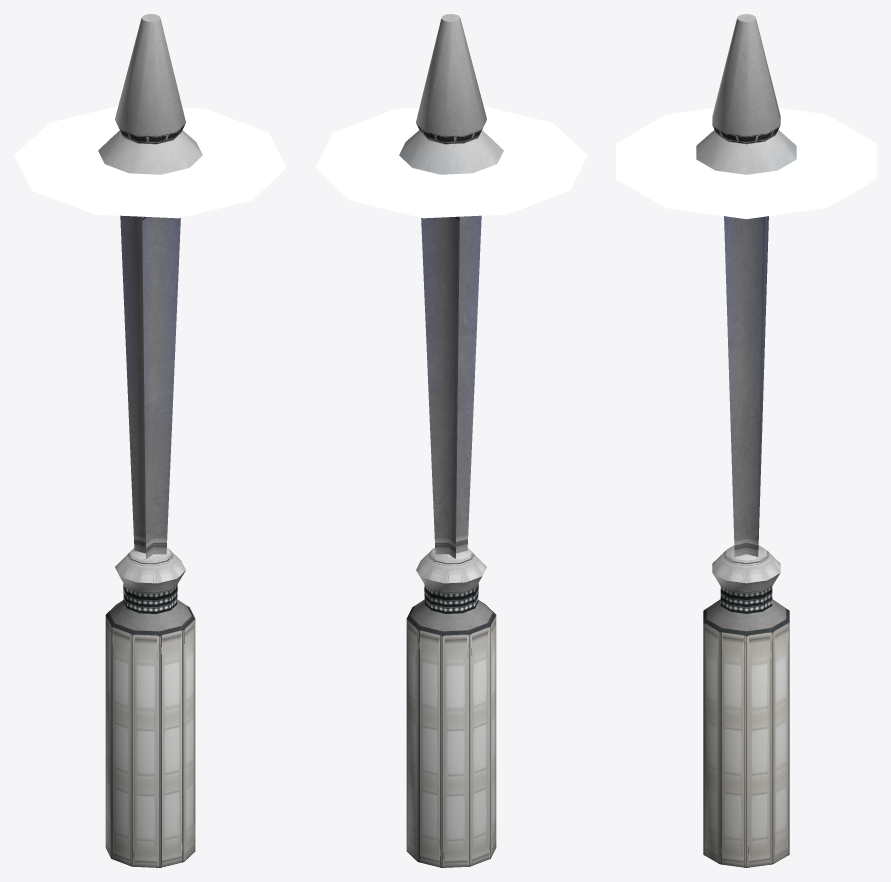
The model's file is bes2_bldg_street_lamp.glb.
3 views of the same model, side by side, from view 1: azimuth 30°, elevation 25°; view 2: azimuth 150°, elevation 25°; view 3: azimuth 270°, elevation 25° (orthographic).
Visible parts, largest first — view 1: mesh_part3, mesh_part2, mesh_part1; view 2: mesh_part3, mesh_part2, mesh_part1; view 3: mesh_part3, mesh_part2, mesh_part1.
Boxes of the visible parts, x1=… form: mesh_part3: x1=105, y1=215, x2=195, y2=867; mesh_part2: x1=14, y1=106, x2=286, y2=218; mesh_part1: x1=98, y1=14, x2=202, y2=174; mesh_part3: x1=406, y1=215, x2=496, y2=867; mesh_part2: x1=315, y1=106, x2=587, y2=218; mesh_part1: x1=399, y1=14, x2=503, y2=174; mesh_part3: x1=703, y1=216, x2=789, y2=867; mesh_part2: x1=616, y1=108, x2=876, y2=219; mesh_part1: x1=696, y1=14, x2=796, y2=174.
Size of the model in its own units: 1.21 by 4.06 by 1.15.
Materials: 3 (2 with a texture image).
